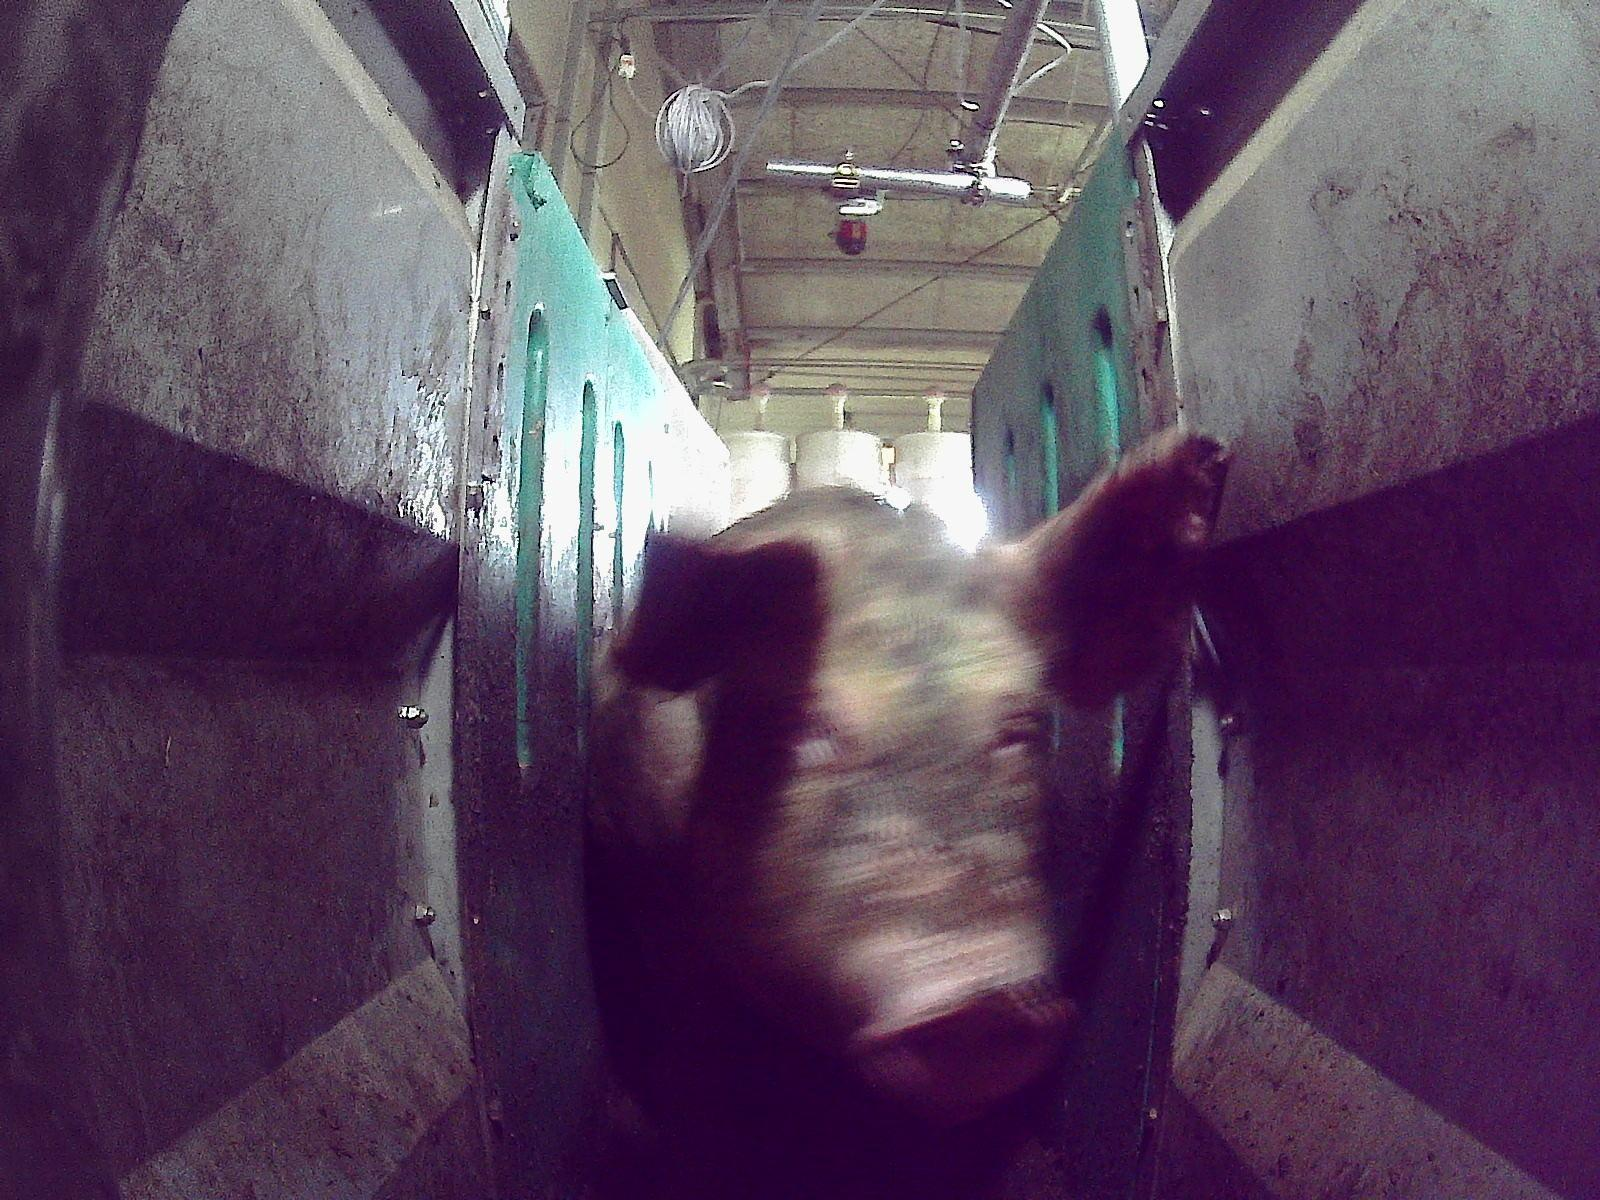Face: (674, 539, 1081, 1130)
